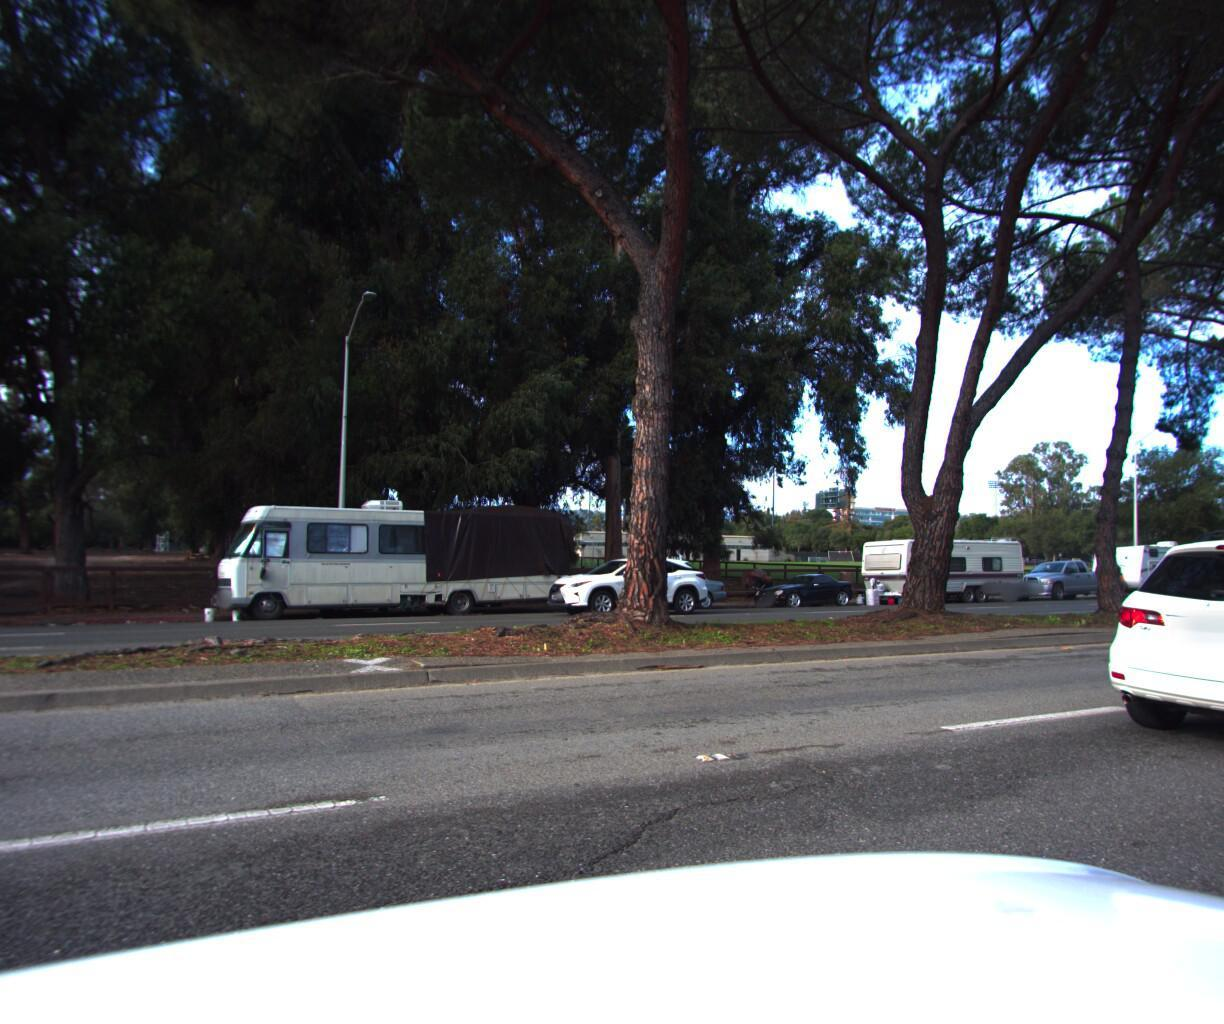car: (1064, 511, 1224, 815), (538, 548, 721, 616), (585, 565, 737, 612), (998, 552, 1125, 598), (747, 566, 863, 607)
other_vehicle: (198, 484, 586, 625), (848, 528, 1031, 601), (1069, 528, 1224, 593)
